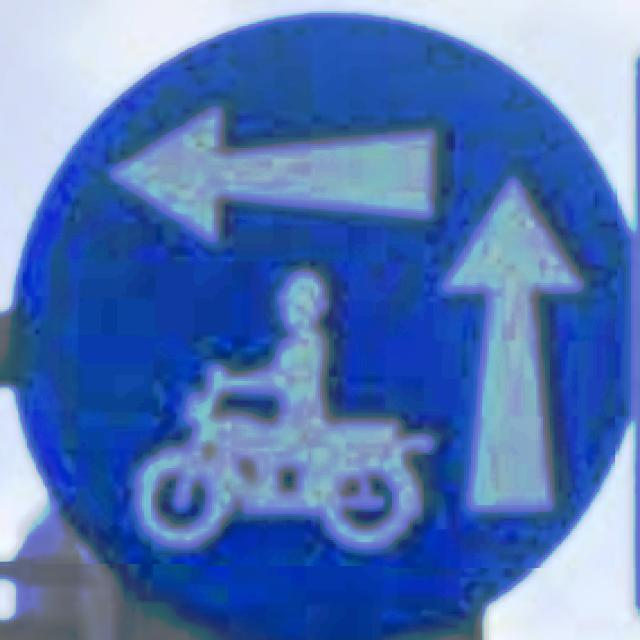twostageturn: (18, 11, 633, 640)
